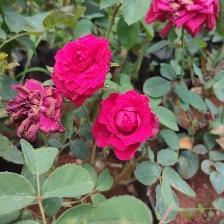rose: (92, 90, 162, 161), (51, 34, 115, 102)
